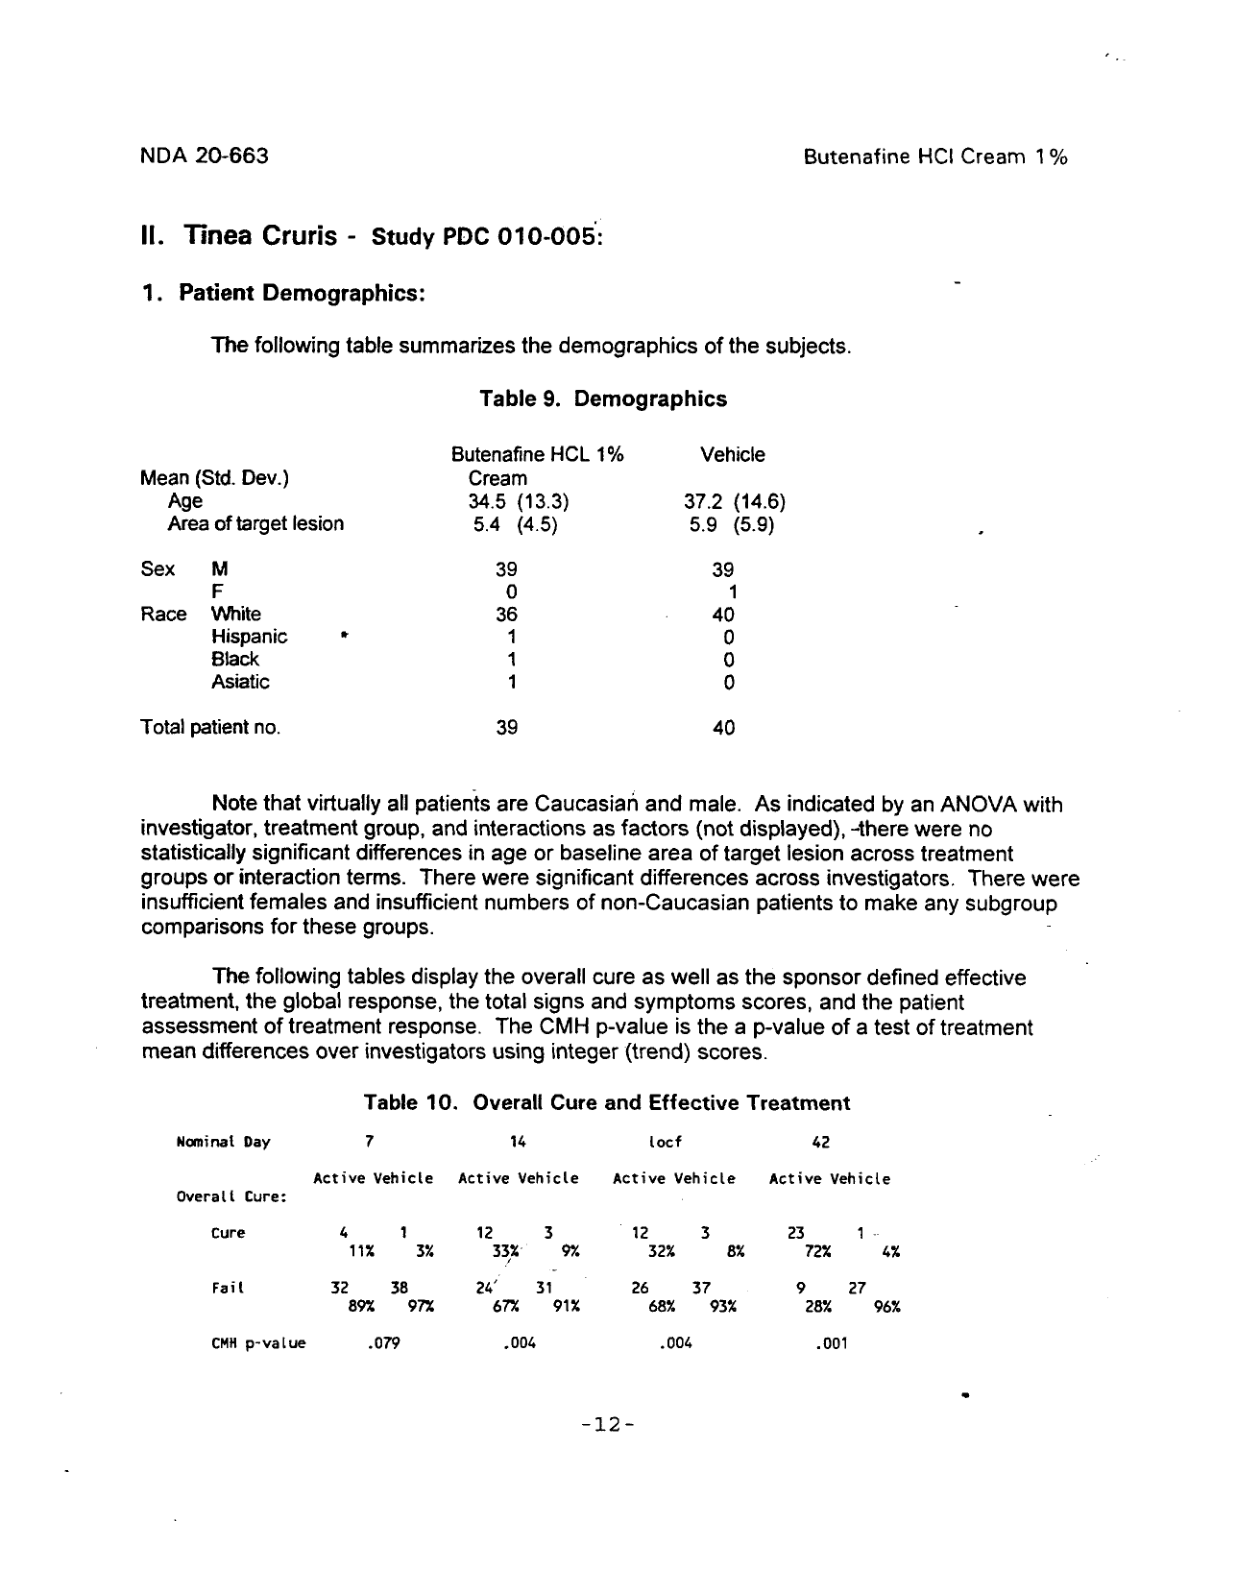nolines: (138, 446, 788, 737), (175, 1132, 901, 1355)
